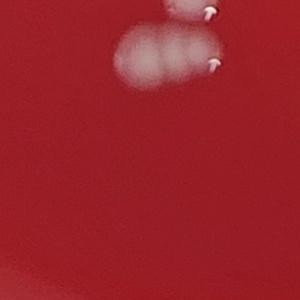colony: (108, 23, 169, 97), (151, 18, 195, 93), (178, 22, 229, 86), (156, 0, 227, 28)
